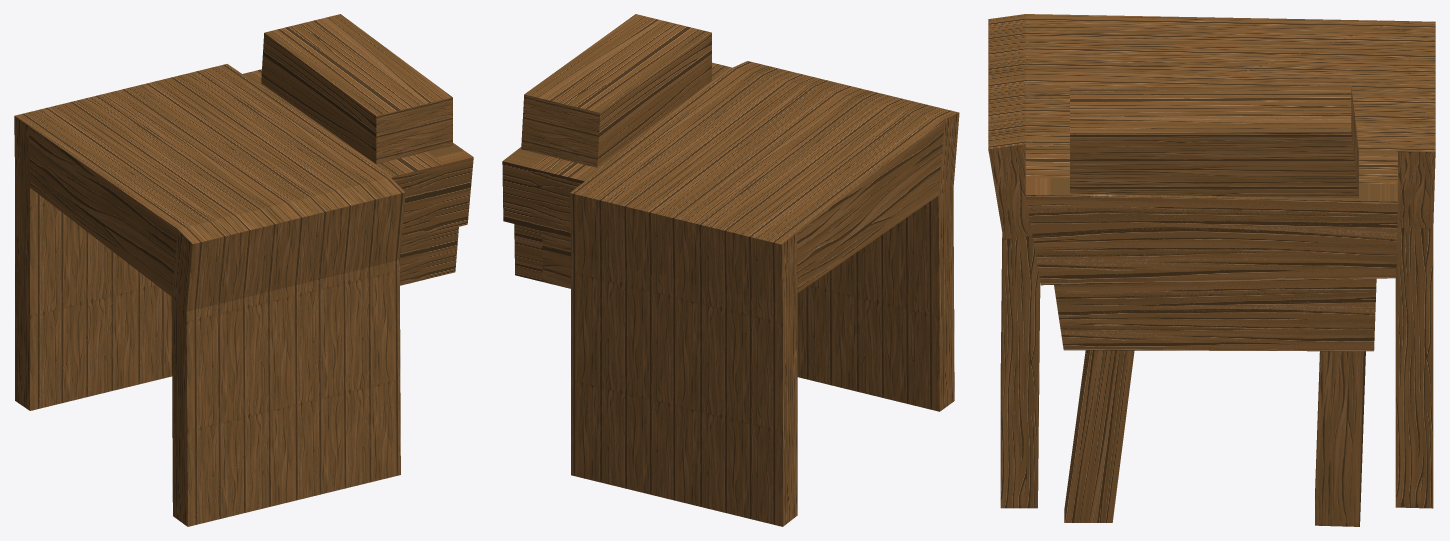
Rendered from Mine.fbx.
The picture shows the model from 3 angles, left to right: view 1: azimuth 30°, elevation 25°; view 2: azimuth 150°, elevation 25°; view 3: azimuth 270°, elevation 25°; orthographic projection. The views are drawn at different scales.
Visible parts, largest first — view 1: Cube; view 2: Cube; view 3: Cube.
Part boxes in pixels (x1,y1,x2,y2): Cube: (14,14,473,526); Cube: (502,14,959,526); Cube: (988,14,1435,526).
Bounding box in the file's own units: 232 × 256 × 242.
